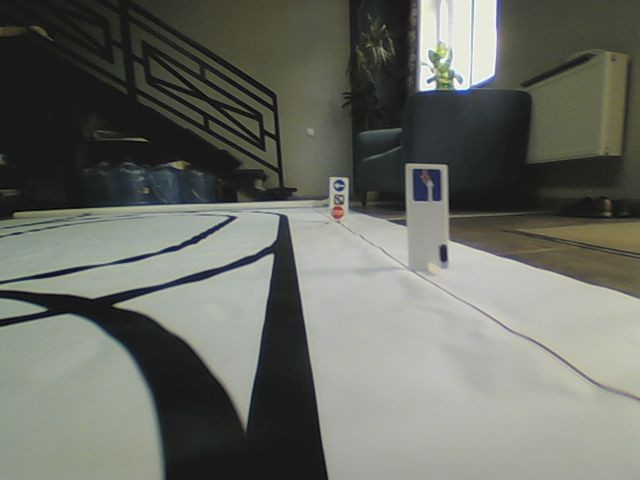priority_movement: (411, 168, 442, 202)
